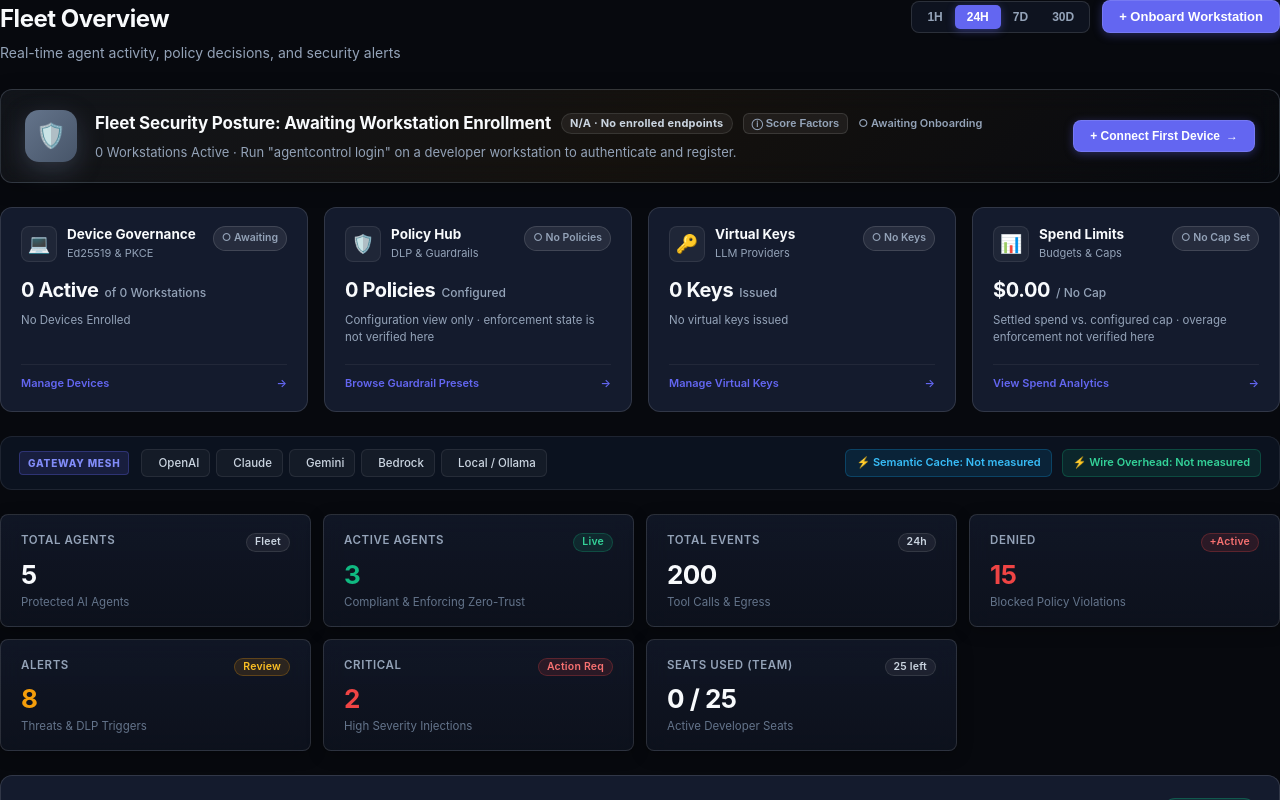
Test: FleetOverview › toggles composite security posture breakdown popover
This screenshot has width=1280, height=800.
Check: the text "5" is shown, box [21,559,37,590]
Click the button "ⓘ Score Factors".
click(795, 124)  # box [742,113,848,134]
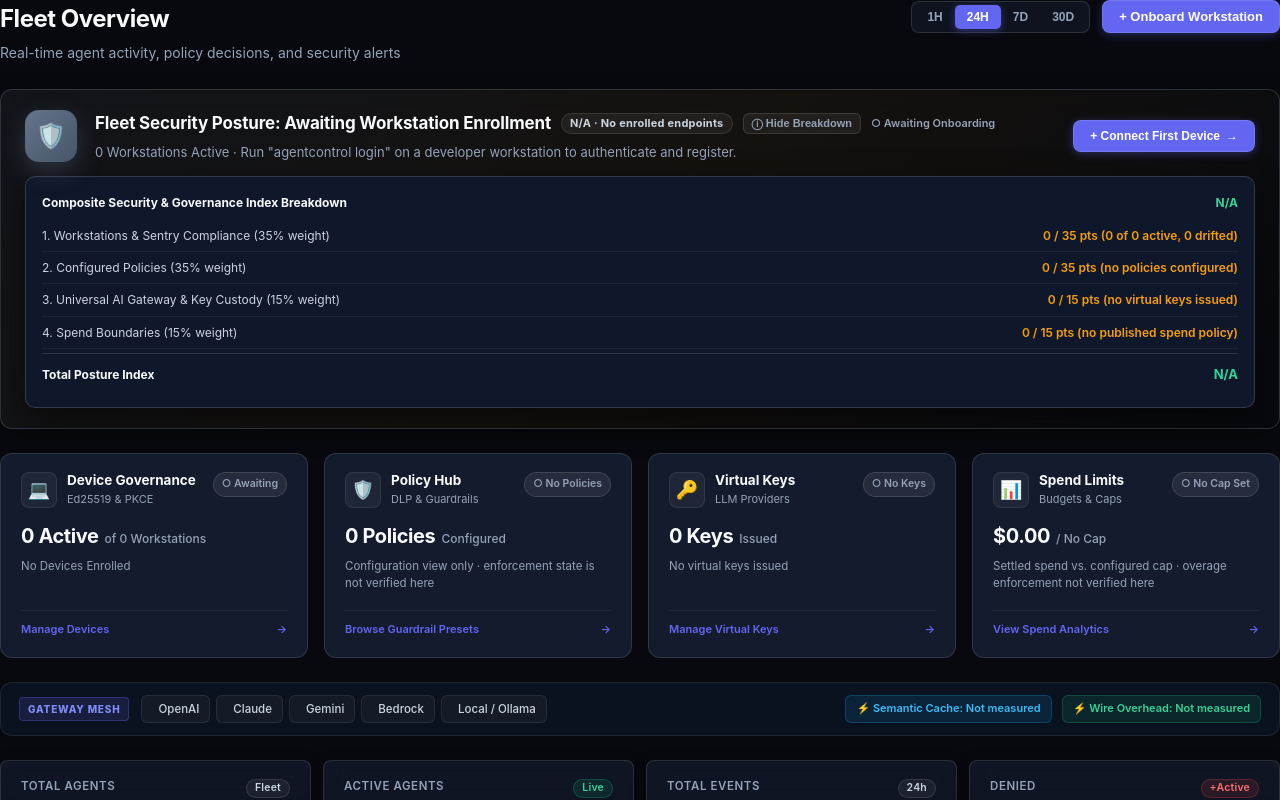
Check: the text "Composite Security & Governance Index Breakdown" is shown, box [42,193,347,212]
Check: the text "1. Workstations & Sentry Compliance (35% weight)" is shown, box [42,226,330,245]
Check: the text "2. Configured Policies (35% weight)" is shown, box [42,258,246,277]
